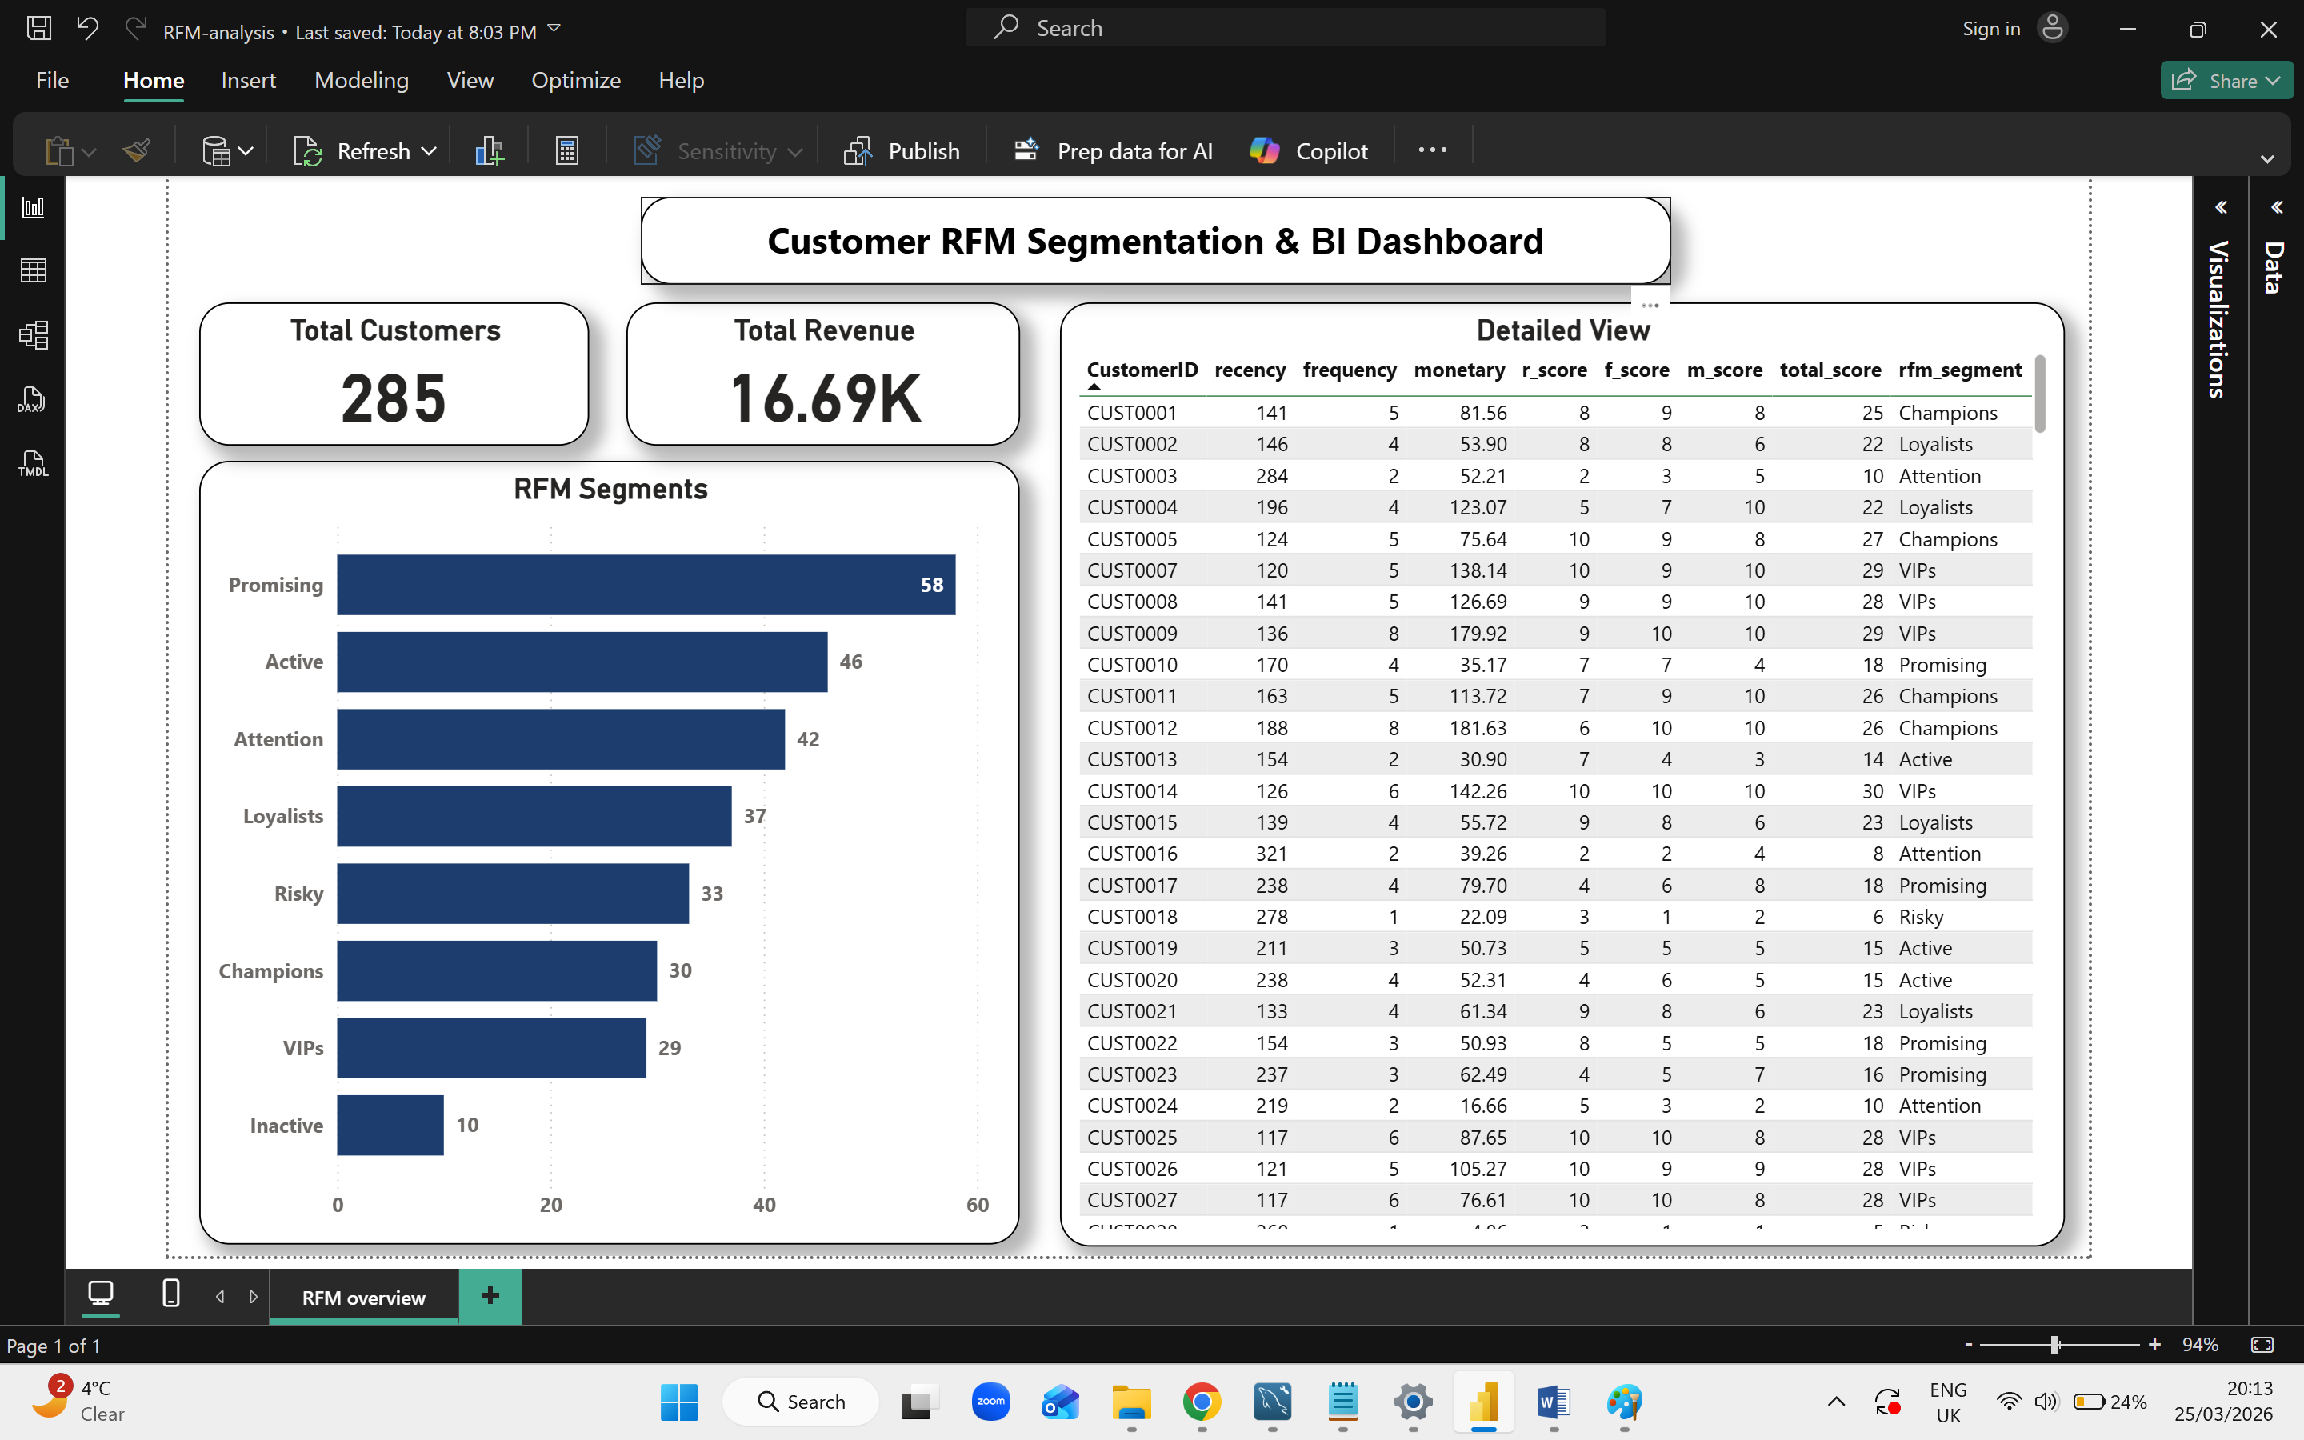

The dashboard page shown, as its layout file describes it:
{"tool":"powerbi","page":{"name":"RFM overview","canvas":[1280,720],"ordinal":0},"visuals":[{"type":"clusteredBarChart","title":"RFM Segments","fields":{"Y":["Count(rfm_segments_final.CustomerID)"],"Category":["rfm_segments_final.rfm_segment"]},"box":[20.3,189.9,547.2,522.7],"z":1},{"type":"tableEx","title":"Detailed View","fields":{"Values":["rfm_segments_final.CustomerID","rfm_segments_final.recency","rfm_segments_final.frequency","rfm_segments_final.monetary","rfm_segments_final.r_score","rfm_segments_final.f_score","rfm_segments_final.m_score","rfm_segments_final.total_score","rfm_segments_final.rfm_segment"]},"box":[594.1,84.3,669.9,629.3],"z":2},{"type":"card","title":"Total Customers","fields":{"Values":["rfm_segments_final.Total_Customers"]},"box":[20.4,84.1,260.1,95.6],"z":3},{"type":"card","title":"Total Revenue","fields":{"Values":["rfm_segments_final.Total Revenue"]},"box":[304.7,84.1,262.6,95.6],"z":4},{"type":"textbox","box":[314.7,13.9,686.9,58.7],"z":5}]}

Visuals, with their boxes in screenshot pixels (x1, y1, x2, y2):
"RFM Segments" clusteredBarChart: box(59, 361, 996, 1256)
"Detailed View" tableEx: box(1041, 180, 2188, 1258)
"Total Customers" card: box(59, 180, 504, 344)
"Total Revenue" card: box(546, 180, 995, 344)
textbox: box(563, 60, 1739, 160)
